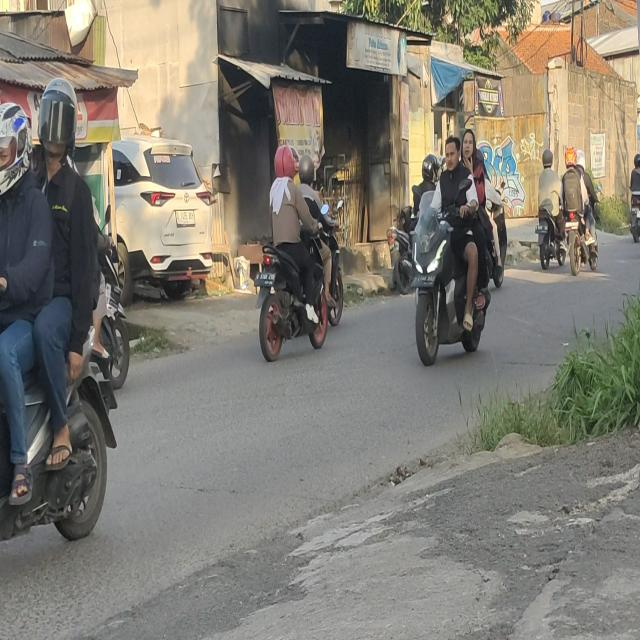helmet: (1, 100, 31, 193), (40, 80, 76, 157), (274, 144, 295, 180), (300, 151, 314, 184), (422, 156, 438, 184), (564, 148, 578, 167), (576, 149, 586, 172), (542, 150, 554, 167), (633, 153, 640, 166)
no-helmet: (445, 138, 460, 170), (463, 131, 476, 160)
